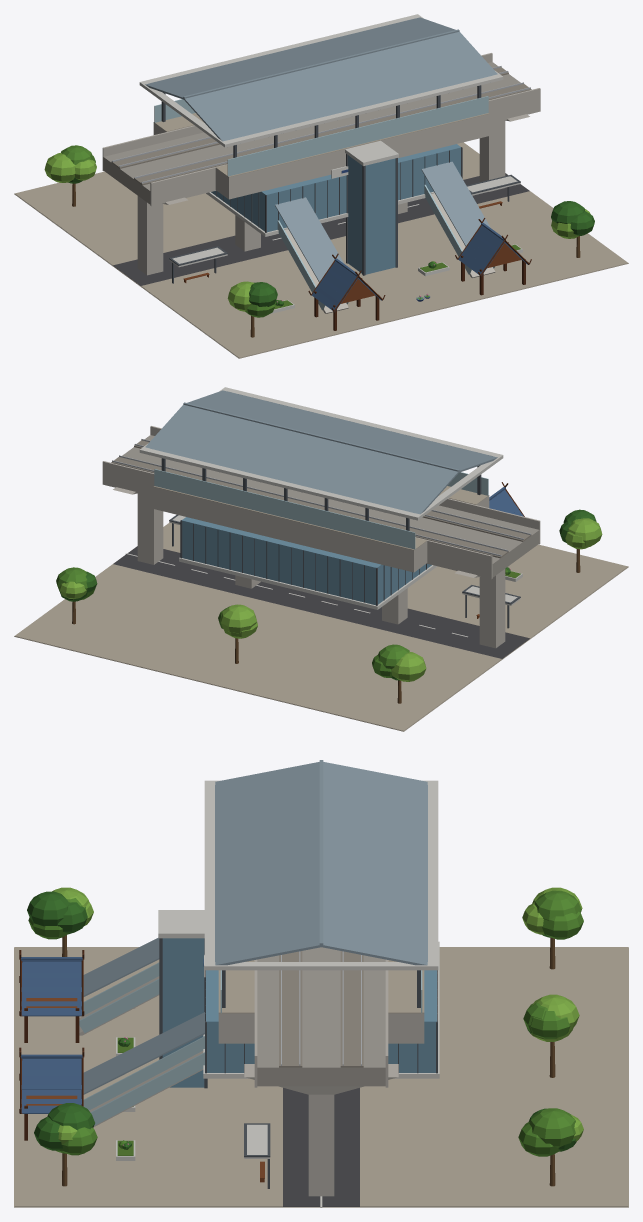
Rendered from station.glb.
3 renders of one model, top to bottom at view 1: azimuth 30°, elevation 25°; view 2: azimuth 150°, elevation 25°; view 3: azimuth 270°, elevation 25°, orthographic. The views are drawn at different scales.
Parts seen in each view (by area): view 1: body; view 2: body; view 3: body.
Part boxes in pixels (x1=…): body: x1=14, y1=14, x2=628, y2=358; body: x1=14, y1=387, x2=628, y2=731; body: x1=14, y1=760, x2=628, y2=1207.
Size of the model in its own units: 47.95 by 19.48 by 47.9.
